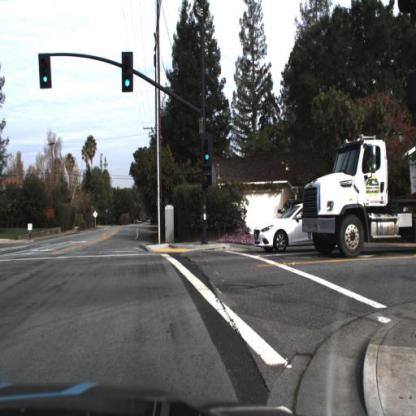car: (252, 196, 316, 250), (252, 195, 302, 254)
trafficLight-Green: (121, 51, 132, 90), (202, 134, 212, 164)
truck: (300, 133, 414, 256)
